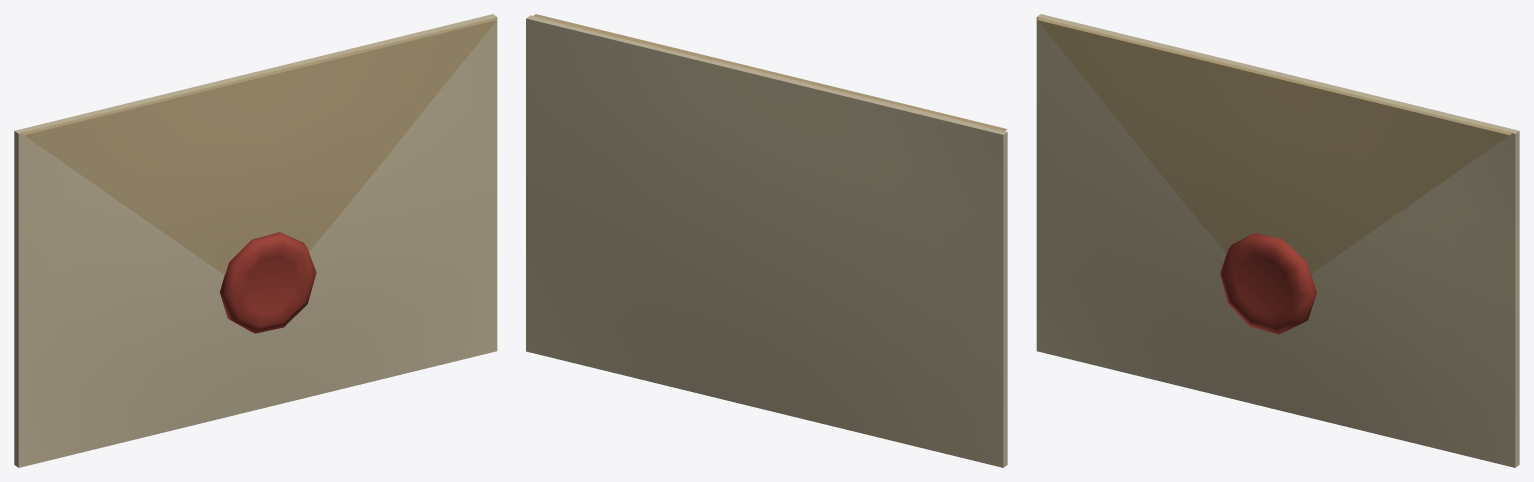
Rendered from PRP_Envelope_A.fbx.
3 renders of one model, left to right at view 1: azimuth 30°, elevation 25°; view 2: azimuth 150°, elevation 25°; view 3: azimuth 330°, elevation 25°, orthographic.
Parts seen in each view (by area): view 1: PRP_Envelope_A_LOD0; view 2: PRP_Envelope_A_LOD0; view 3: PRP_Envelope_A_LOD0.
Boxes of the visible parts, x1,y1,x2,y2 form: PRP_Envelope_A_LOD0: [14, 14, 497, 467]; PRP_Envelope_A_LOD0: [526, 14, 1007, 467]; PRP_Envelope_A_LOD0: [1036, 14, 1519, 467].
Size of what is drawn, in the model's own units: 0.09 by 0.06 by 0.0071.
